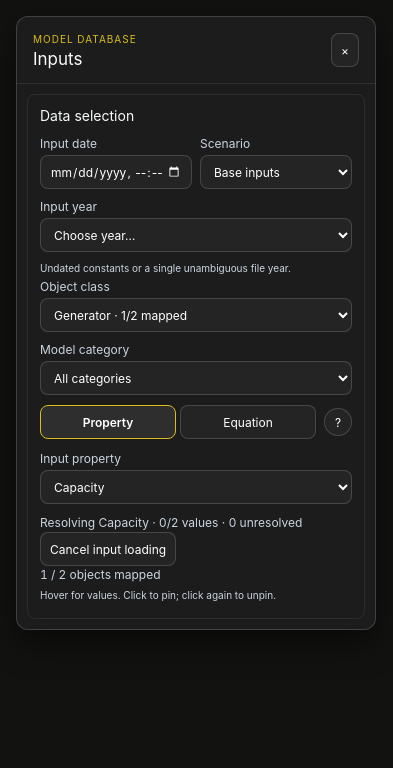
Test: invalid syntax clears the map measurements and does not fetch or execute code
Expected: the text "1 / 2 objects mapped" is shown, [40,567,160,582]
Select "Native" in the dropdown labelled "Model category" at (196, 378), box [40,361,352,395]
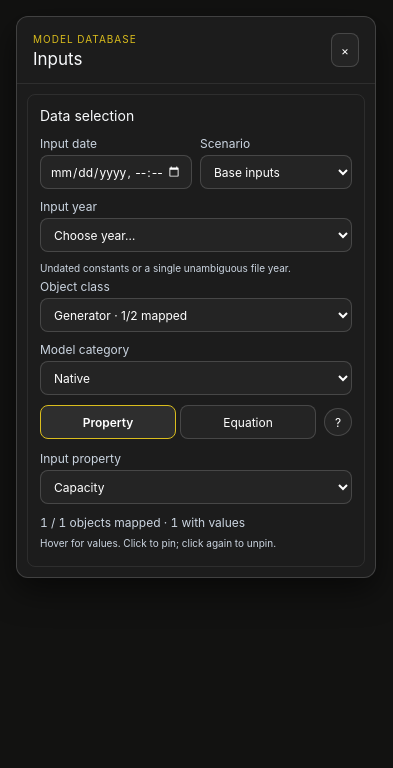
Click the button "Equation" at (248, 422), box [180,405,316,439]
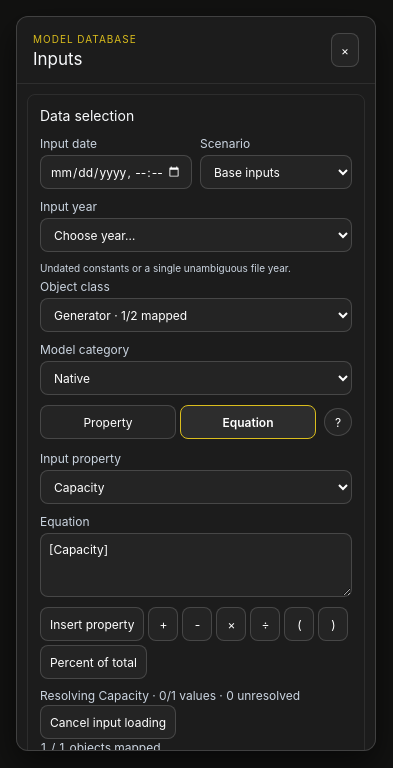
Replace the text in the text box labelled "Equation" with "window.alert(1)" at (196, 565), box [40,533,352,597]
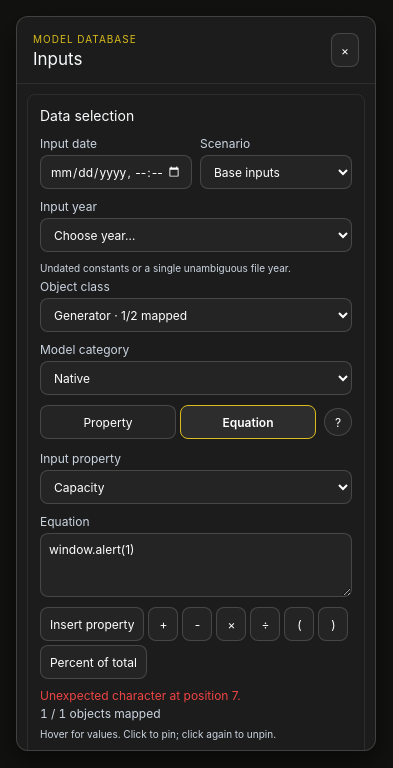
Now the message "Unexpected character at position 7." is shown, box [40,688,241,703]
